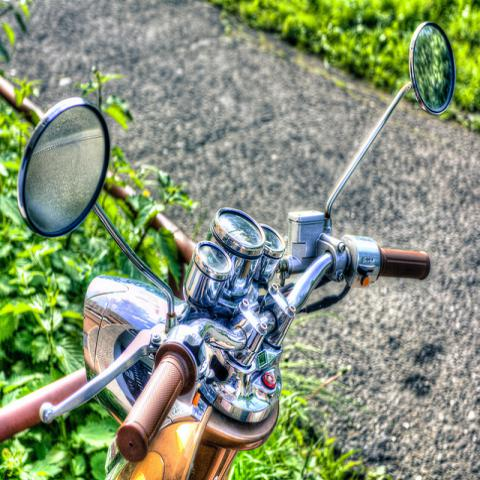motorcycle: (9, 17, 470, 472)
